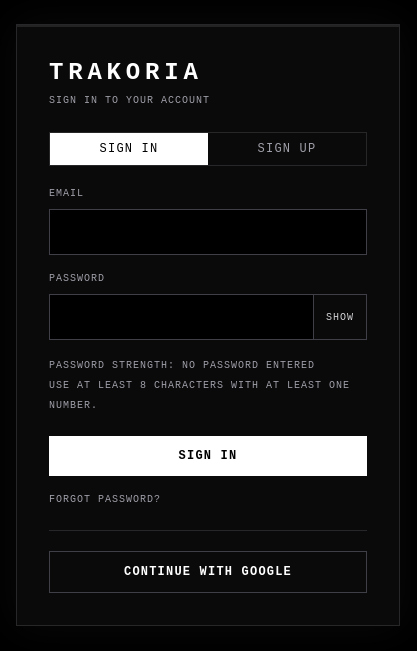
Scenario: AuthPanel › shows actionable validation errors before submitting
In the field labelled "Email": (208, 232) [49,209,367,255], type "not-an-email"
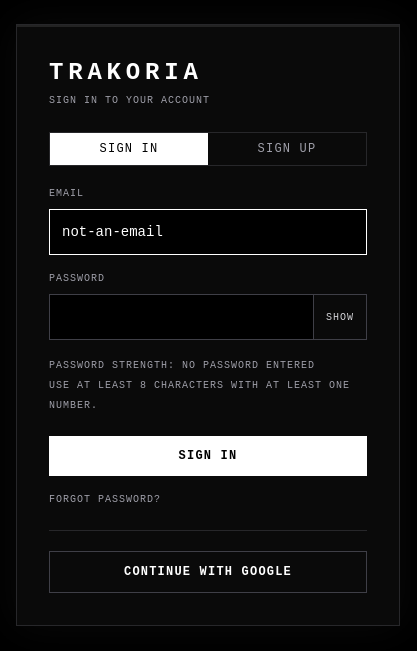
In the password field labelled "Password Show": (182, 317) [49,294,314,340], type "123"
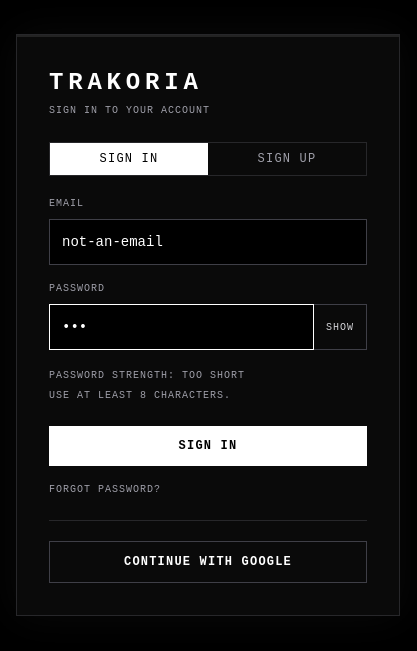
Click the button "Sign In": (208, 446) [49,426,367,466]
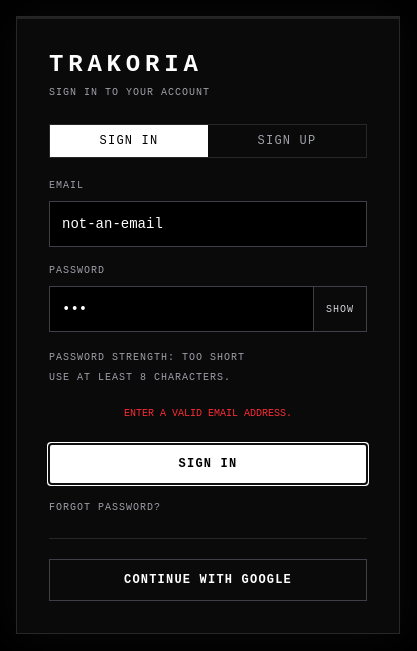
Check: the message shows "valid email", box [124,408,292,419]
